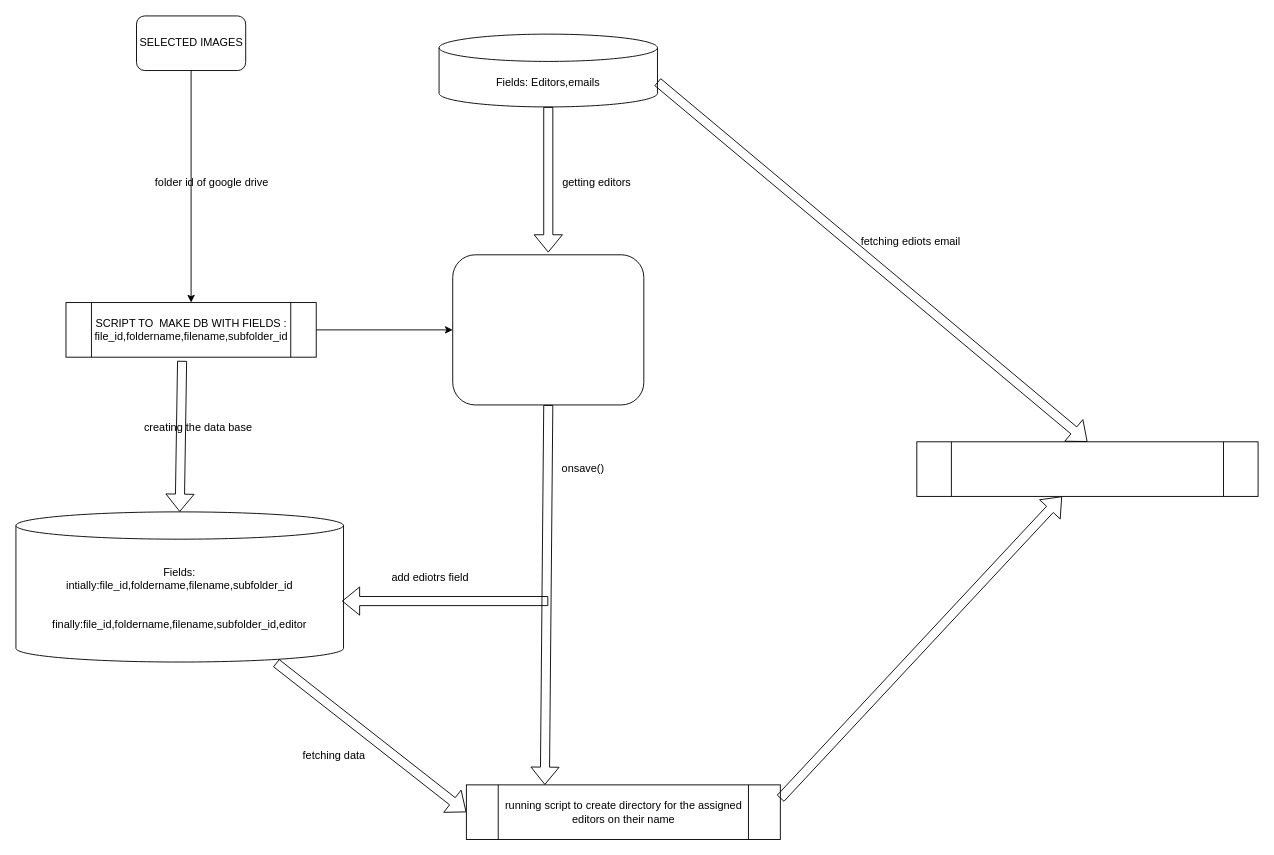
The diagram is 1274 pixels wide and 855 high, and some of its shapes have lost their labels. The shapes that lost their labels are listed below. From the top down, each one's centre as x and y in pixels, then its label:
(548,329): an app to select the editors for each images and save
(1087,468): giving permisiions to respective editor directory and notifying them
